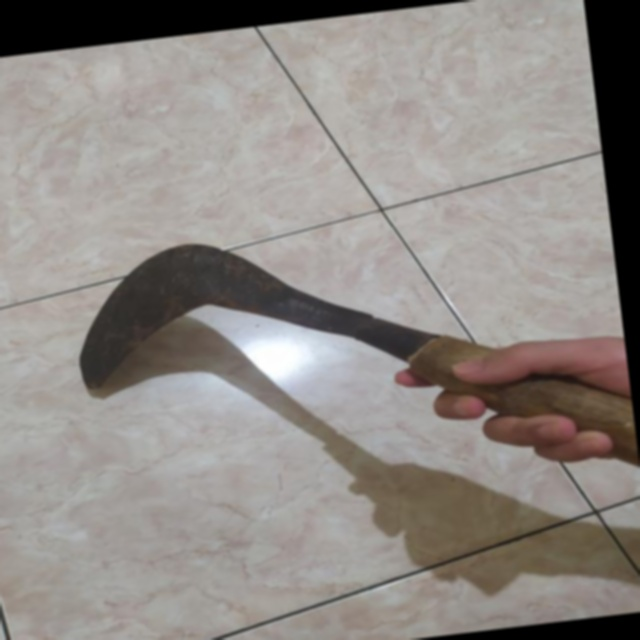Sharp-Object: (57, 184, 639, 523)
